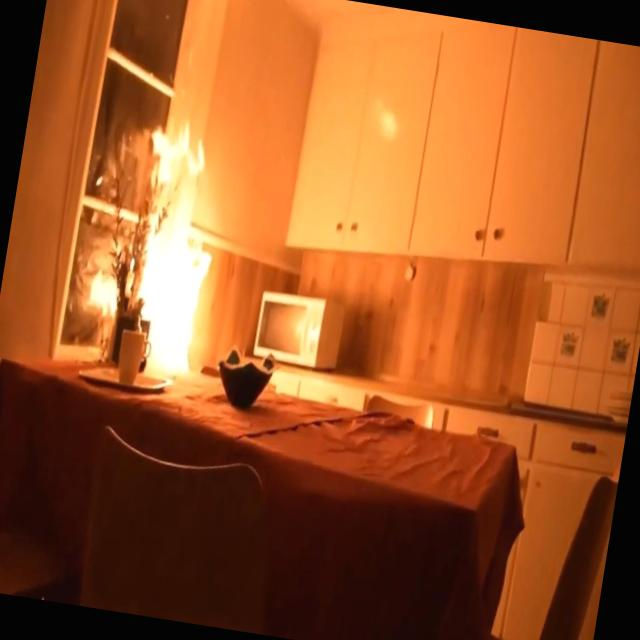fire: (67, 94, 247, 394)
